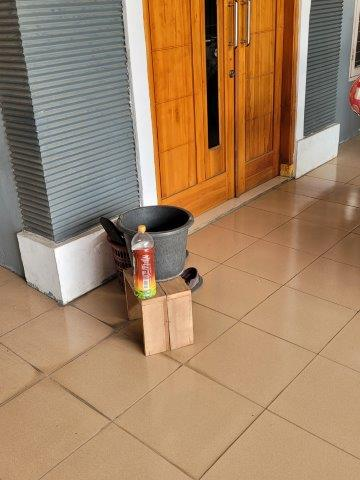botolplastik: (132, 225, 157, 298)
